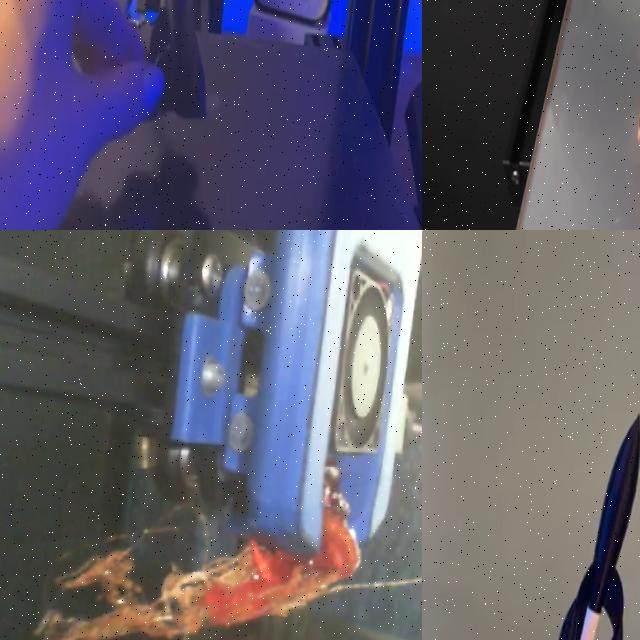spaghetti: (37, 462, 360, 640), (46, 492, 360, 640)
